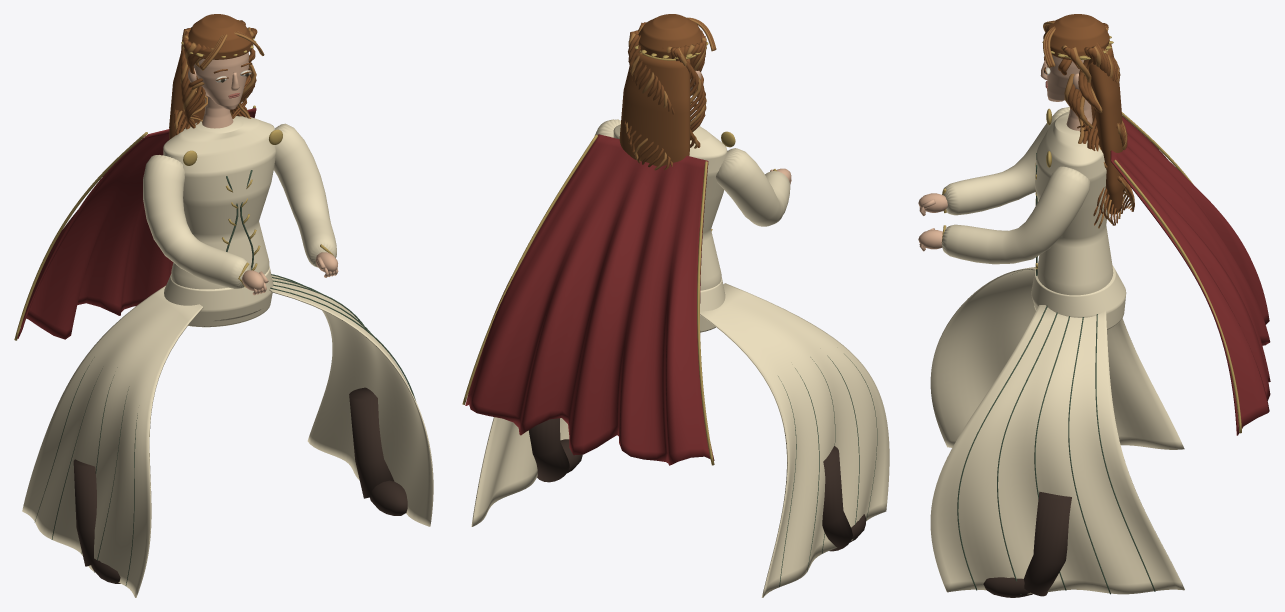
Rendered from princess-v4.glb.
3 views of the same model, side by side, from view 1: azimuth 30°, elevation 25°; view 2: azimuth 150°, elevation 25°; view 3: azimuth 270°, elevation 25° (orthographic).
Parts seen in each view (by area): view 1: MorrisPrincess_surface, cape_surface, body_surface, head_surface, armL_surface, armR_surface; view 2: cape_surface, MorrisPrincess_surface, head_surface, armL_surface, body_surface; view 3: MorrisPrincess_surface, cape_surface, head_surface, body_surface, armR_surface, armL_surface.
Part boxes in pixels (<box>): MorrisPrincess_surface: <box>22,266,433,597</box>; cape_surface: <box>14,105,256,340</box>; body_surface: <box>163,92,282,321</box>; head_surface: <box>169,14,264,139</box>; armL_surface: <box>143,155,268,295</box>; armR_surface: <box>273,123,338,277</box>; cape_surface: <box>462,134,714,465</box>; MorrisPrincess_surface: <box>471,277,889,597</box>; head_surface: <box>619,14,716,170</box>; armL_surface: <box>716,148,791,226</box>; body_surface: <box>613,124,735,290</box>; MorrisPrincess_surface: <box>930,265,1184,597</box>; cape_surface: <box>1110,112,1270,435</box>; head_surface: <box>1040,14,1134,228</box>; body_surface: <box>1034,99,1113,310</box>; armR_surface: <box>918,166,1090,264</box>; armL_surface: <box>918,107,1069,215</box>.
Size of the model in its own units: 0.99 by 1.54 by 0.964.
